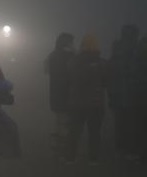person: (67, 32, 112, 155), (108, 24, 145, 160), (42, 31, 81, 130)
